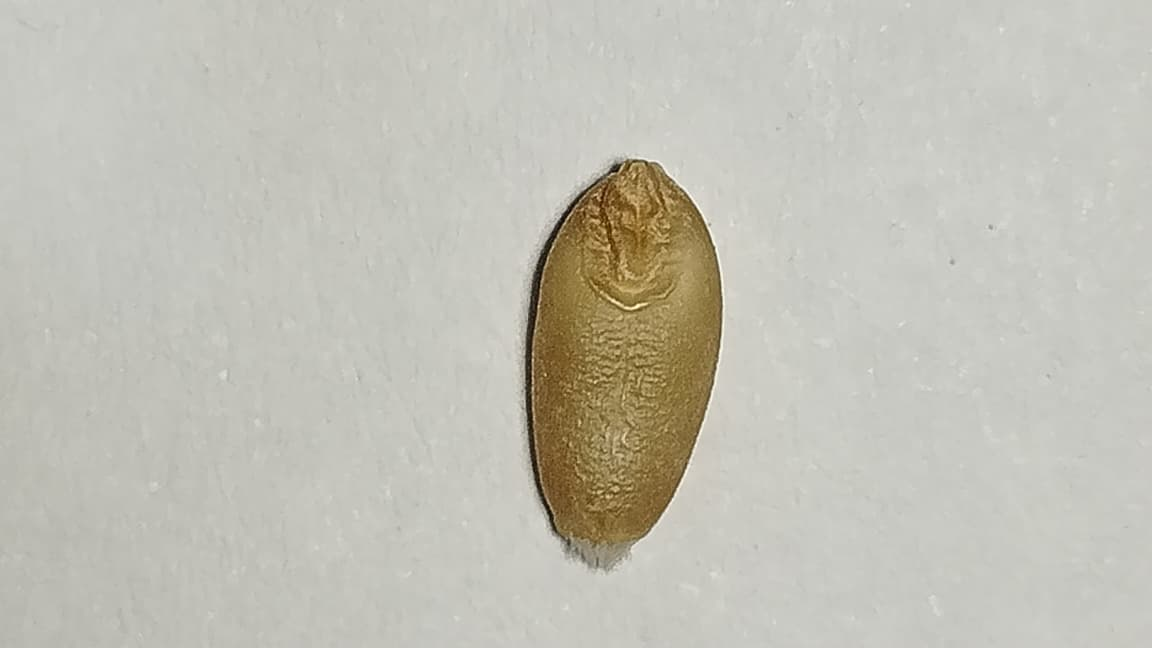healthy: (527, 160, 721, 542)
